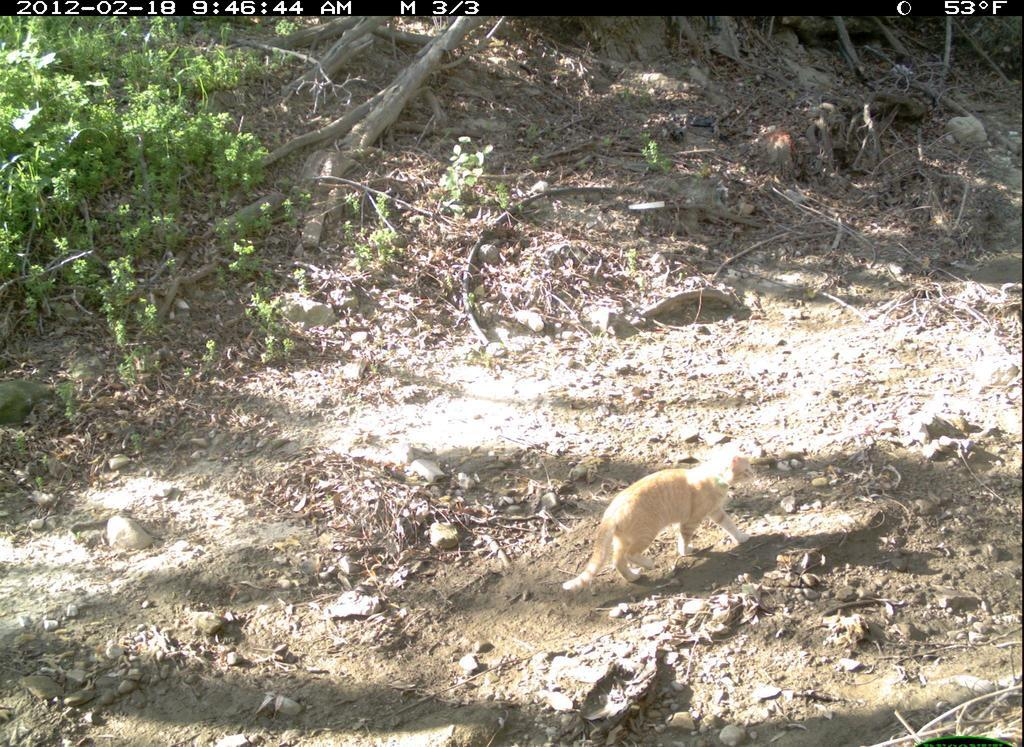cat: (553, 440, 767, 602)
